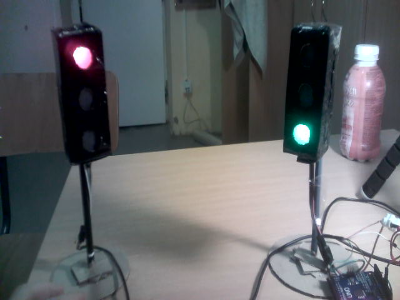trafficlight_green: (283, 29, 330, 152)
trafficlight_red: (60, 31, 103, 154)
